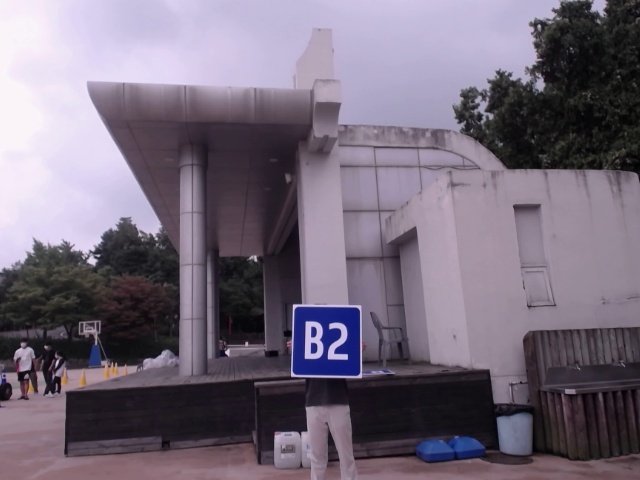delivery_b2: (292, 305, 362, 377)
